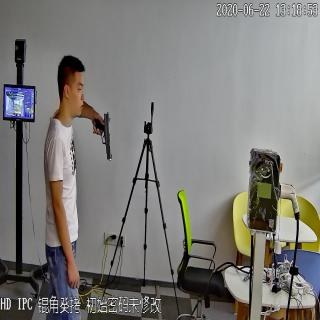gun: (92, 109, 113, 161)
